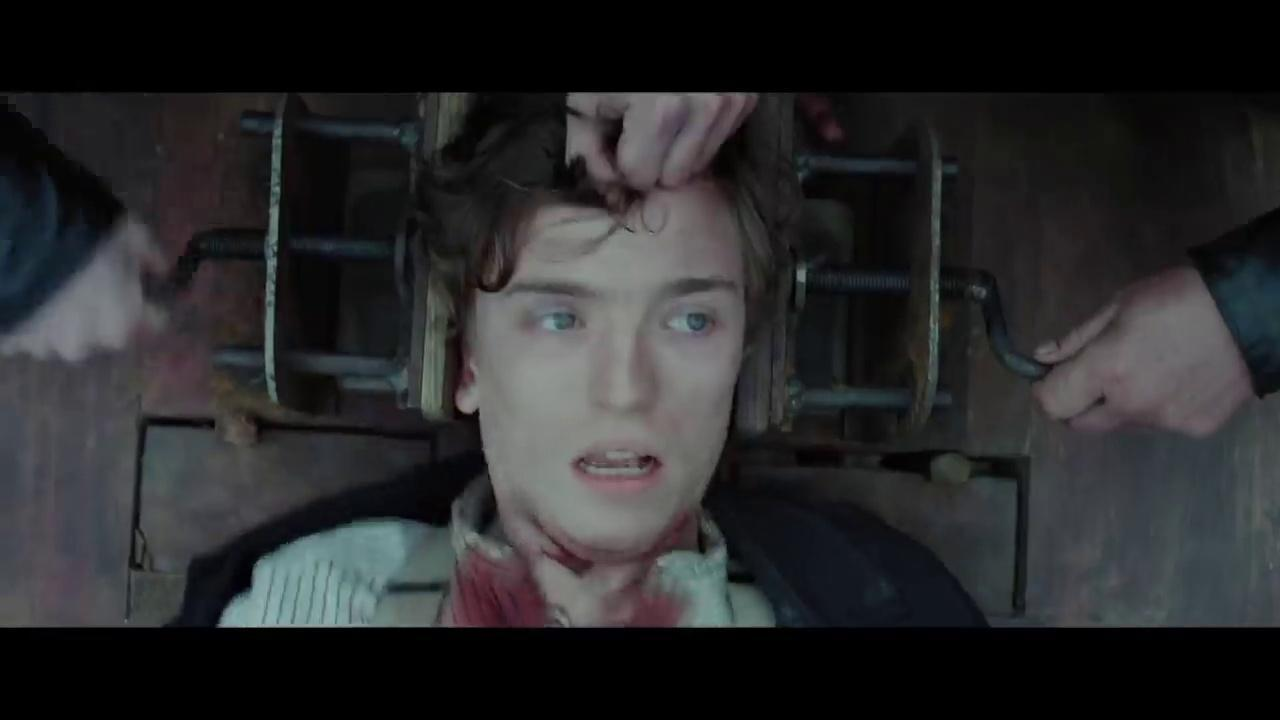Fire: (452, 494, 701, 628)
